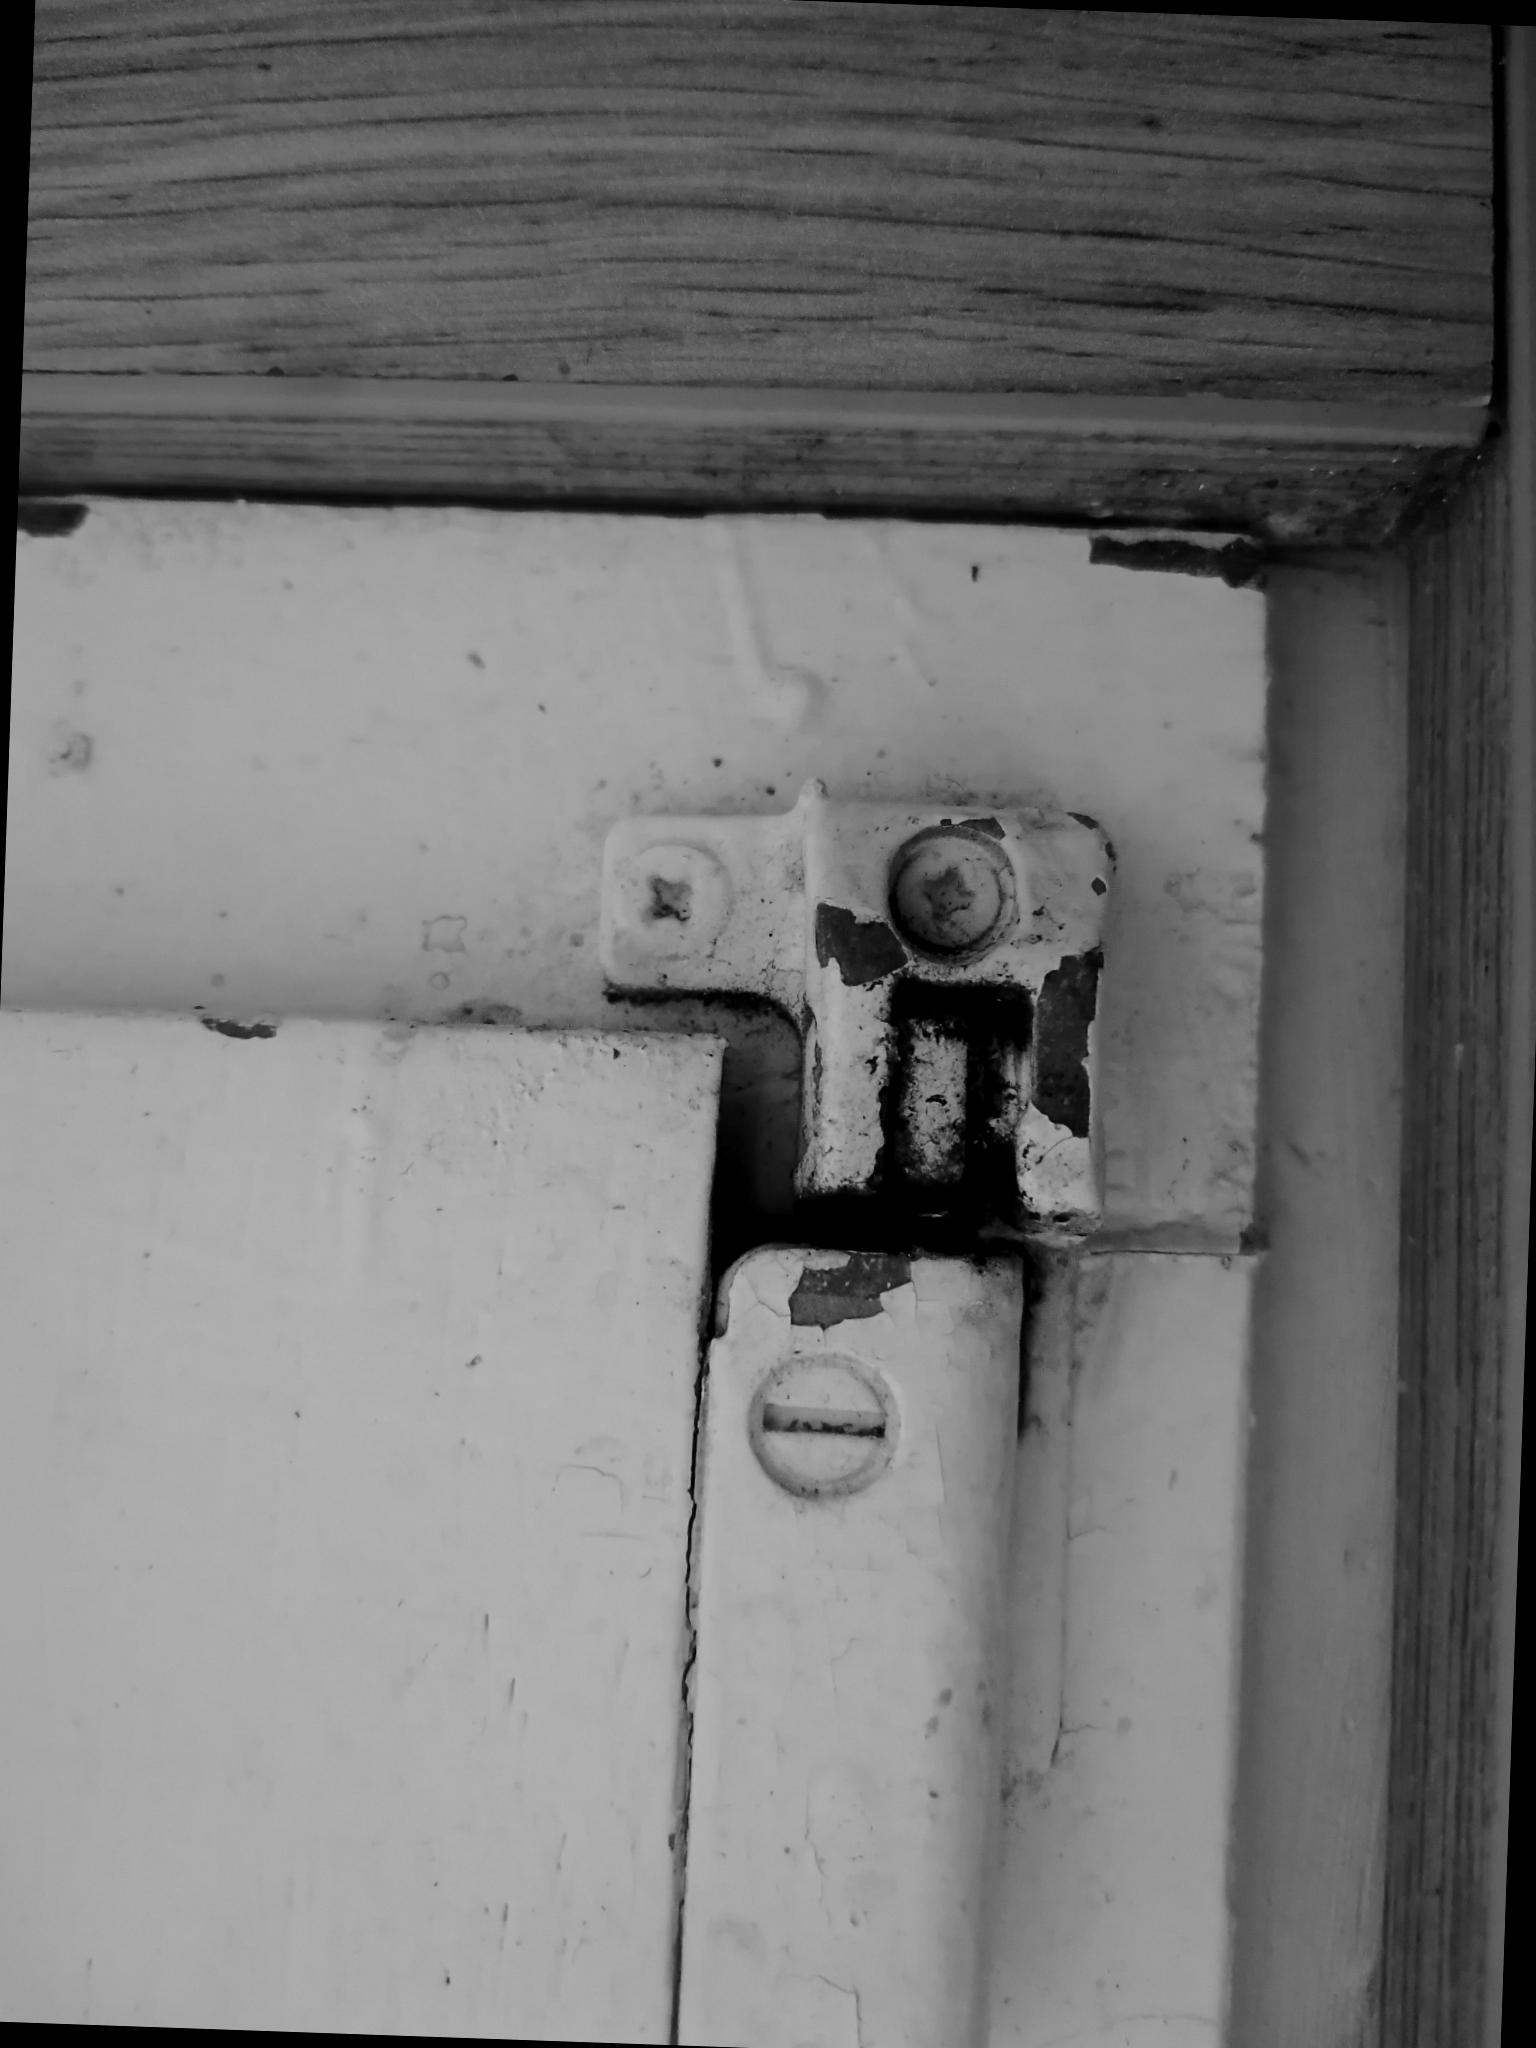philips-PZ: (608, 834, 749, 968), (883, 834, 1020, 959)
slotted: (737, 1347, 915, 1508)
